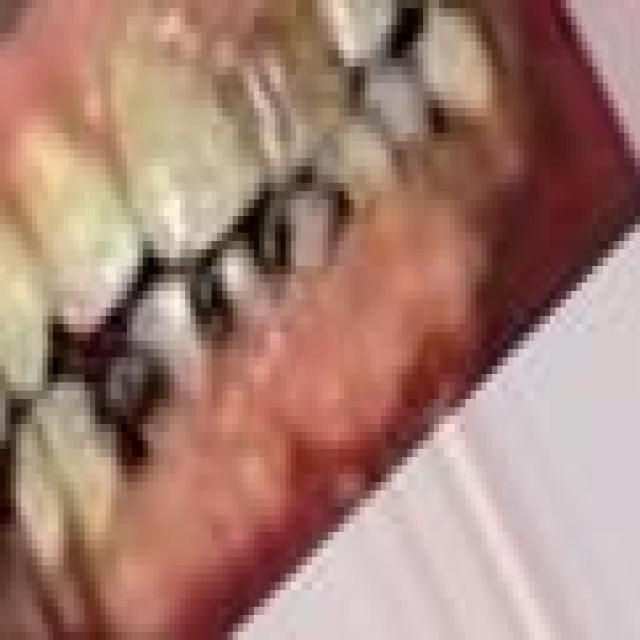caries: (97, 308, 187, 453), (260, 176, 343, 296), (183, 230, 264, 352)
